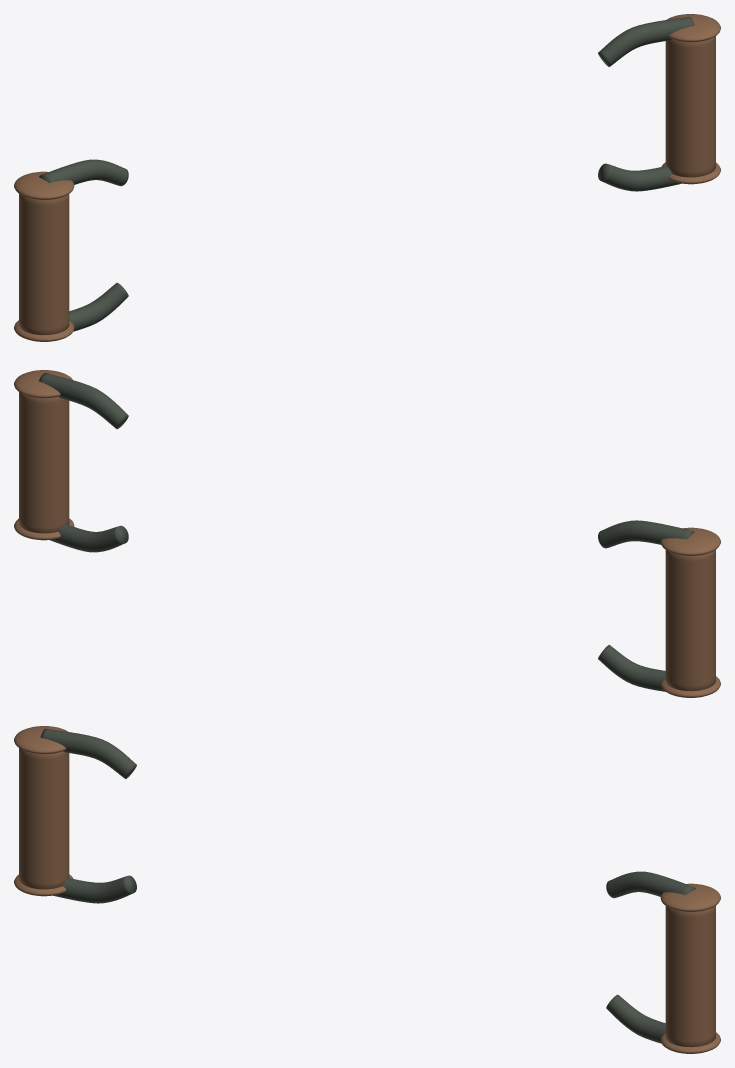
Rendered from handles.c64c4d2c1b3e.glb.
3 renders of one model, top to bottom at view 1: azimuth 30°, elevation 25°; view 2: azimuth 150°, elevation 25°; view 3: azimuth 330°, elevation 25°, orthographic.
Visible parts, largest first — view 1: Left cylindrical grip mirrored, Right cylindrical grip, Right iron bracket.001, Left iron bracket.001 mirrored, Right iron bracket, Left iron bracket mirrored, Rubber end collar.001 mirrored, Rubber end collar.001; view 2: Left cylindrical grip mirrored, Right cylindrical grip, Right iron bracket.001, Left iron bracket.001 mirrored, Right iron bracket, Left iron bracket mirrored, Rubber end collar.001 mirrored, Rubber end collar.001; view 3: Right cylindrical grip, Left cylindrical grip mirrored, Left iron bracket.001 mirrored, Right iron bracket.001, Left iron bracket mirrored, Right iron bracket, Rubber end collar.001, Rubber end collar.001 mirrored.
Boxes of the visible parts, box(x1,y1,x2,y2) form: Left cylindrical grip mirrored: box(19, 181, 69, 335); Right cylindrical grip: box(665, 14, 715, 177); Right iron bracket.001: box(598, 16, 694, 66); Left iron bracket.001 mirrored: box(39, 159, 128, 186); Right iron bracket: box(598, 163, 681, 191); Left iron bracket mirrored: box(69, 282, 128, 331); Rubber end collar.001 mirrored: box(14, 171, 74, 199); Rubber end collar.001: box(666, 14, 720, 42); Left cylindrical grip mirrored: box(665, 538, 715, 691); Right cylindrical grip: box(19, 370, 69, 533); Right iron bracket.001: box(39, 373, 128, 429); Left iron bracket.001 mirrored: box(598, 520, 694, 548); Right iron bracket: box(50, 524, 128, 552); Left iron bracket mirrored: box(598, 645, 665, 691); Rubber end collar.001 mirrored: box(660, 527, 720, 555); Rubber end collar.001: box(14, 370, 72, 398); Right cylindrical grip: box(665, 893, 715, 1047); Left cylindrical grip mirrored: box(19, 726, 69, 889); Left iron bracket.001 mirrored: box(40, 728, 136, 778); Right iron bracket.001: box(606, 871, 695, 898); Left iron bracket mirrored: box(53, 875, 136, 903); Right iron bracket: box(606, 994, 665, 1043); Rubber end collar.001: box(660, 883, 720, 911); Rubber end collar.001 mirrored: box(14, 726, 68, 754).
Bounding box in the file's own units: 6.59 × 1.49 × 0.495.
